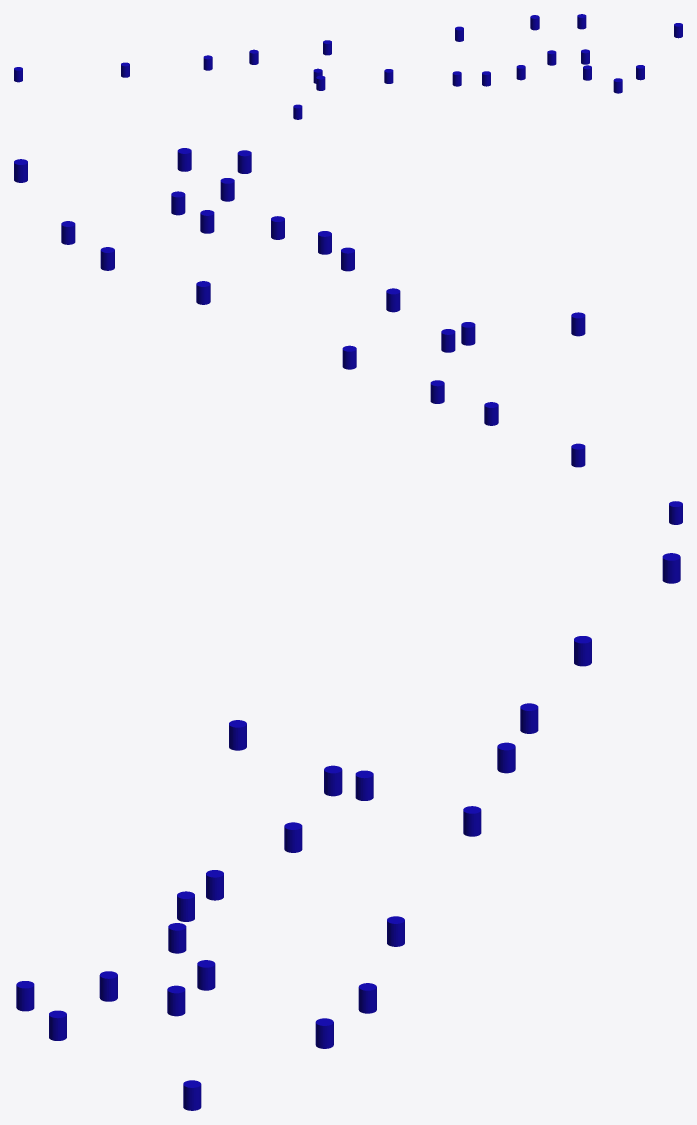
The model's file is Toilettes.glb.
3 views of the same model, one above another, from view 1: azimuth 30°, elevation 25°; view 2: azimuth 150°, elevation 25°; view 3: azimuth 270°, elevation 25° (orthographic). The views are drawn at different scales.
Visible parts, largest first — view 1: Toilettes1; view 2: Toilettes1; view 3: Toilettes1.
Part boxes in pixels (x1,y1,x2,y2): Toilettes1: [14, 14, 682, 119]; Toilettes1: [14, 148, 682, 524]; Toilettes1: [16, 553, 680, 1110].
Bounding box in the file's own units: 6.99 × 0.14 × 3.67.
